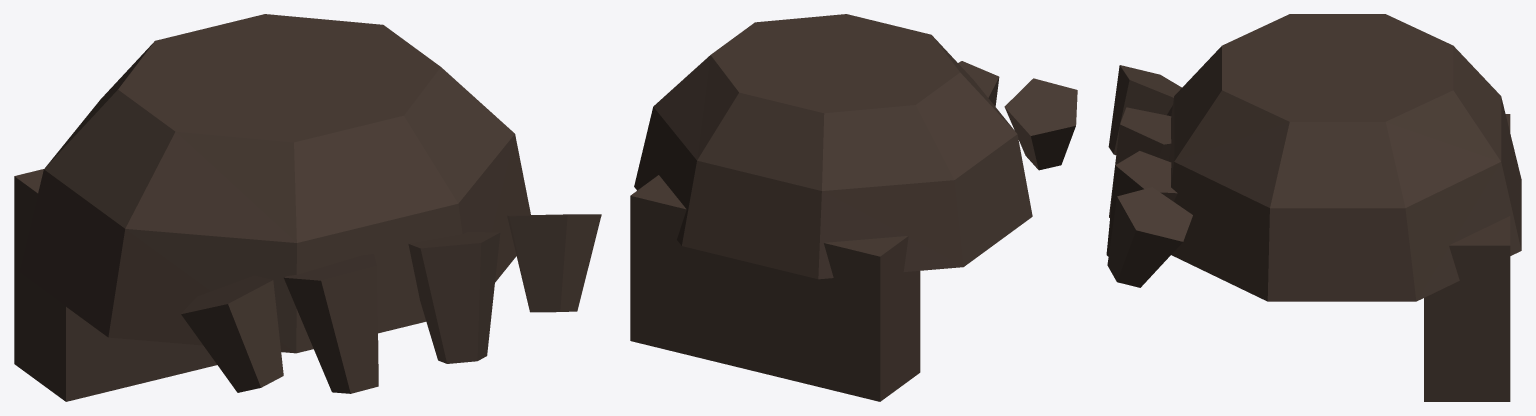
The model's file is NPC_Hair_00_Short.glb.
3 renders of one model, left to right at view 1: azimuth 30°, elevation 25°; view 2: azimuth 150°, elevation 25°; view 3: azimuth 270°, elevation 25°, orthographic. The views are drawn at different scales.
Parts seen in each view (by area): view 1: NPC_Hair_00_Short; view 2: NPC_Hair_00_Short; view 3: NPC_Hair_00_Short.
Part boxes in pixels (box(x1,y1,x2,y2)): NPC_Hair_00_Short: box(14, 14, 601, 401); NPC_Hair_00_Short: box(630, 14, 1077, 401); NPC_Hair_00_Short: box(1106, 14, 1521, 401).
Bounding box in the file's own units: 0.4749 × 0.343 × 0.4807.
